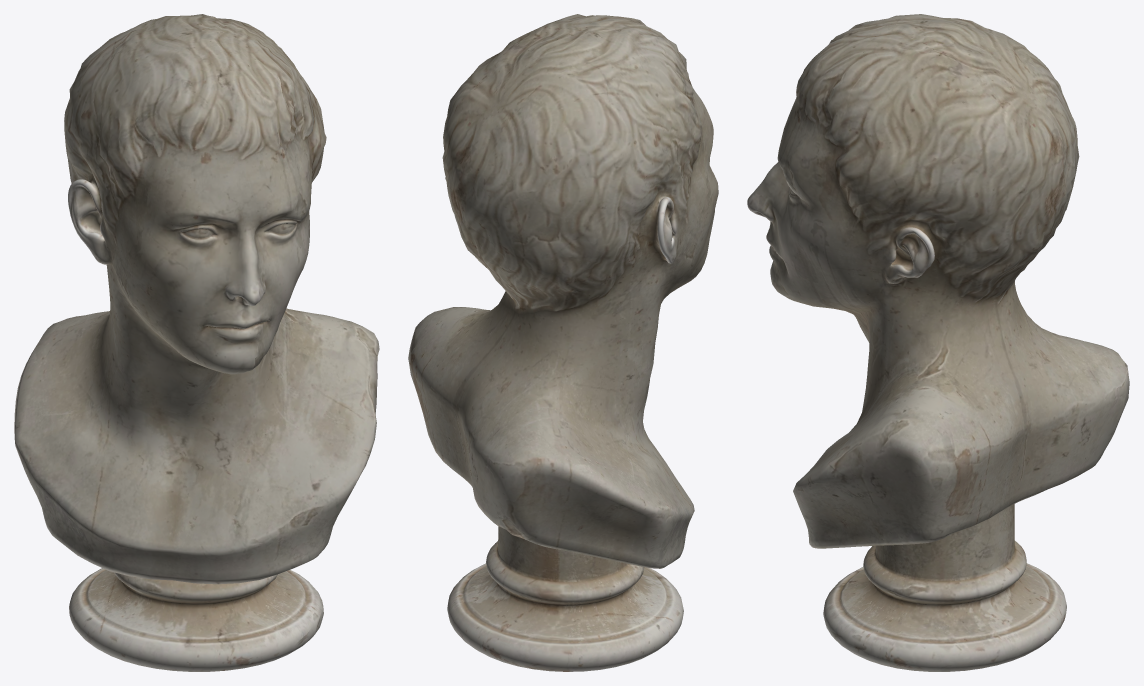
Rendered from marble_bust_01.glb.
The picture shows the model from 3 angles, left to right: view 1: azimuth 30°, elevation 25°; view 2: azimuth 150°, elevation 25°; view 3: azimuth 270°, elevation 25°; orthographic projection. The views are drawn at different scales.
Visible parts, largest first — view 1: marble_bust_01; view 2: marble_bust_01; view 3: marble_bust_01.
Boxes of the visible parts, <box> form: marble_bust_01: <box>14,14,379,671</box>; marble_bust_01: <box>408,14,718,671</box>; marble_bust_01: <box>747,14,1129,671</box>.
Bounding box in the file's own units: 1.81 × 3.44 × 2.
1 material, 1 textured.
